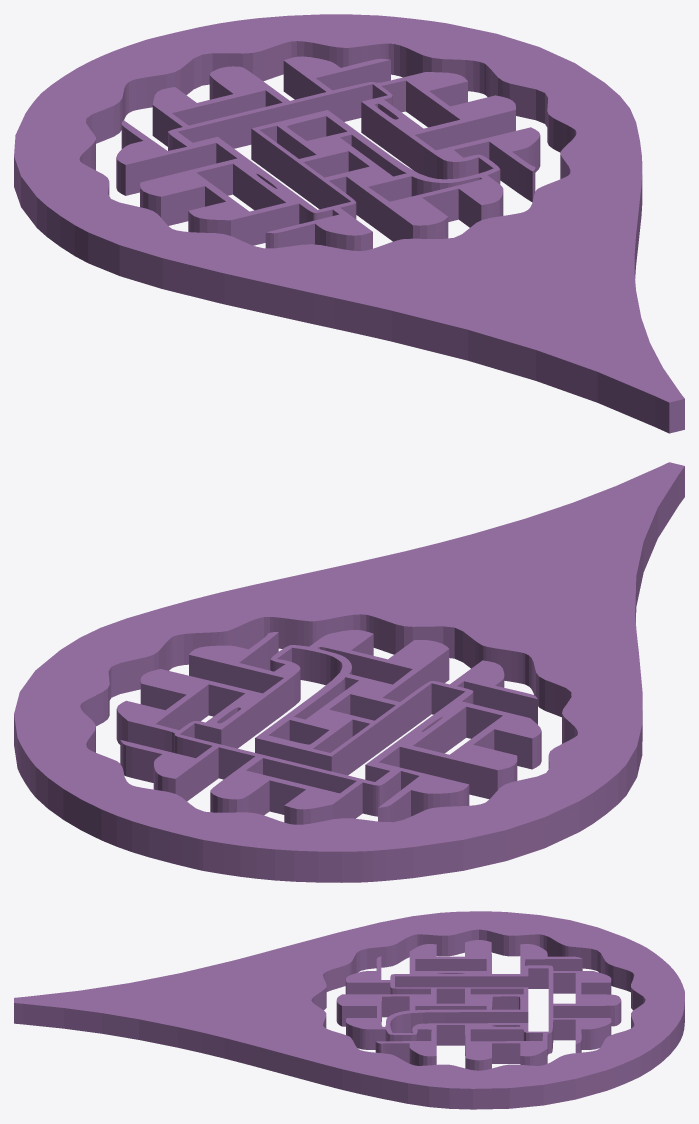
The model's file is PIEMAP.glb.
3 renders of one model, top to bottom at view 1: azimuth 30°, elevation 25°; view 2: azimuth 150°, elevation 25°; view 3: azimuth 270°, elevation 25°, orthographic. The views are drawn at different scales.
Visible parts, largest first — view 1: Mesh_Mesh_head_geo.001_lambert2SG.001; view 2: Mesh_Mesh_head_geo.001_lambert2SG.001; view 3: Mesh_Mesh_head_geo.001_lambert2SG.001.
Part boxes in pixels (x1=…): Mesh_Mesh_head_geo.001_lambert2SG.001: x1=14, y1=14, x2=684, y2=433; Mesh_Mesh_head_geo.001_lambert2SG.001: x1=14, y1=462, x2=684, y2=882; Mesh_Mesh_head_geo.001_lambert2SG.001: x1=14, y1=911, x2=684, y2=1109.
Size of the model in its own units: 371 by 20.19 by 594.
